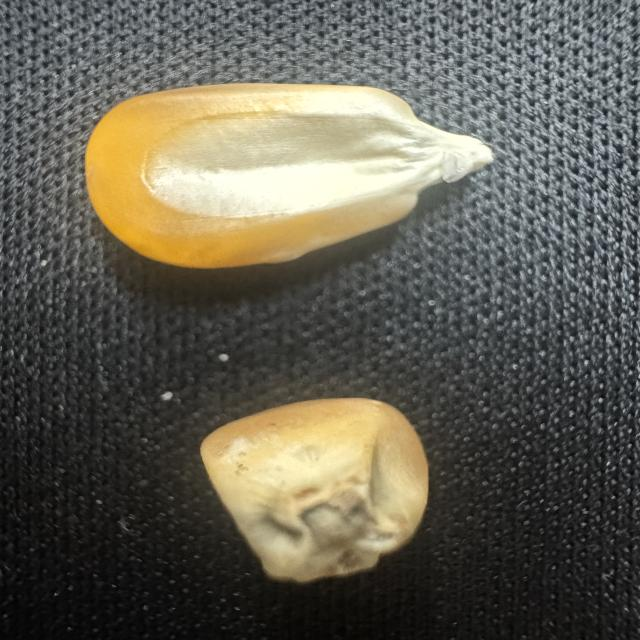Bad-Seed: (186, 389, 454, 591)
Good-Seed: (77, 70, 502, 268)
